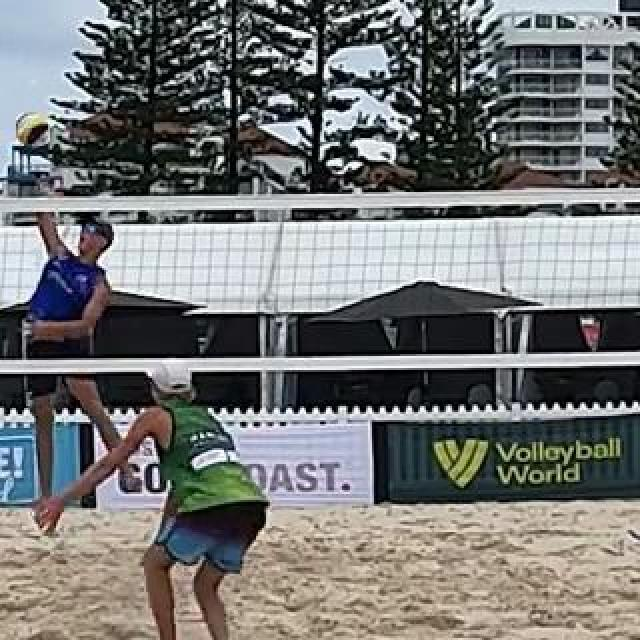volleyball: (18, 113, 50, 147)
